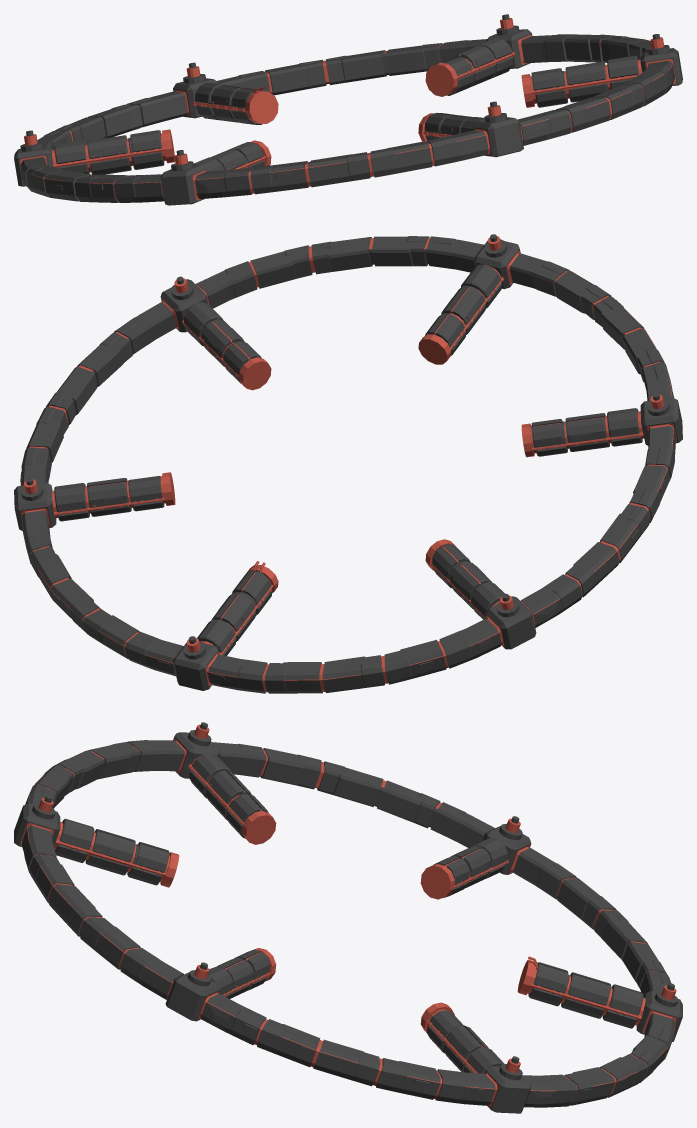
The model's file is boss02-part.fbx.
3 renders of one model, top to bottom at view 1: azimuth 30°, elevation 25°; view 2: azimuth 150°, elevation 25°; view 3: azimuth 270°, elevation 25°, orthographic. The views are drawn at different scales.
Parts seen in each view (by area): view 1: boss02-ring; view 2: boss02-ring; view 3: boss02-ring.
Boxes of the visible parts, left/top/right/bottom form: boss02-ring: left=14, top=14, right=682, bottom=205; boss02-ring: left=14, top=234, right=682, bottom=693; boss02-ring: left=14, top=722, right=682, bottom=1113.
Bounding box in the file's own units: 1884 × 723 × 1830.
